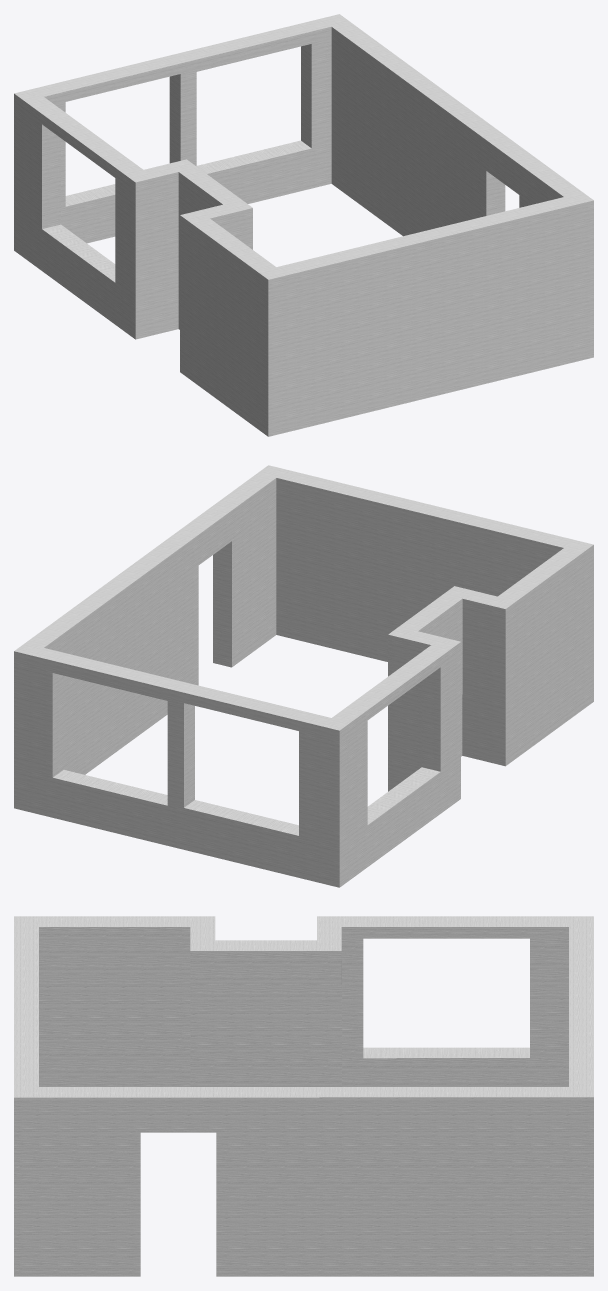
File: Wall_818cdef3.obj
3 renders of one model, top to bottom at view 1: azimuth 30°, elevation 25°; view 2: azimuth 150°, elevation 25°; view 3: azimuth 270°, elevation 25°, orthographic. The views are drawn at different scales.
Visible parts, largest first — view 1: Wall_818cdef3; view 2: Wall_818cdef3; view 3: Wall_818cdef3.
Part boxes in pixels (x1,y1,x2,y2): Wall_818cdef3: (14,14,593,436); Wall_818cdef3: (14,465,593,887); Wall_818cdef3: (14,916,593,1276).
Bounding box in the file's own units: 5.66 × 2.61 × 7.66.
